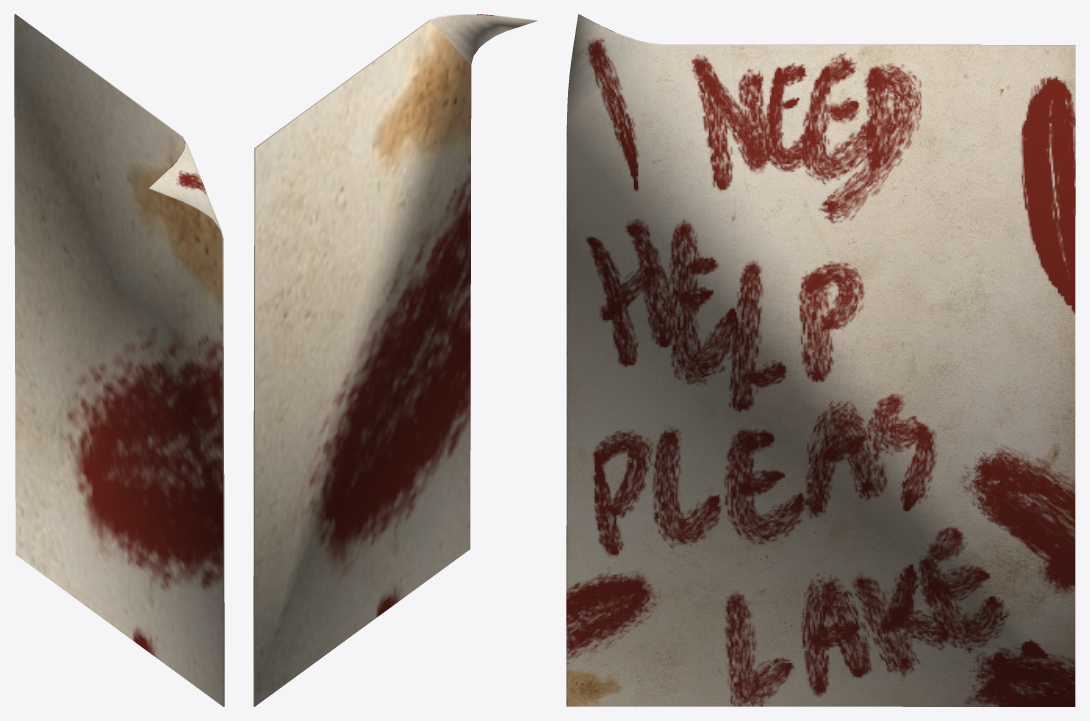
The model's file is Nota3.fbx.
3 views of the same model, side by side, from view 1: azimuth 30°, elevation 25°; view 2: azimuth 150°, elevation 25°; view 3: azimuth 270°, elevation 25° (orthographic). The views are drawn at different scales.
Parts seen in each view (by area): view 1: Plane; view 2: Plane; view 3: Plane.
Boxes of the visible parts, x1,y1,x2,y2 form: Plane: [14, 14, 224, 706]; Plane: [253, 14, 537, 706]; Plane: [566, 14, 1075, 706].
Size of the model in its own units: 4.56 by 32.72 by 22.85.
